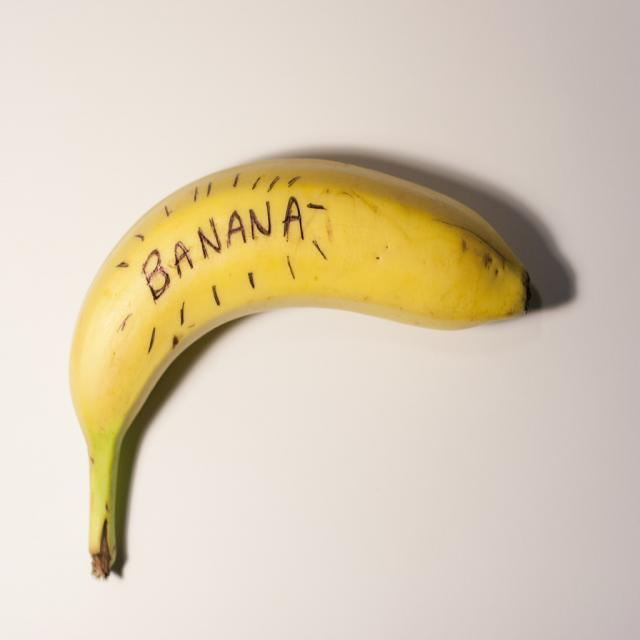Banana: (62, 155, 534, 579)
